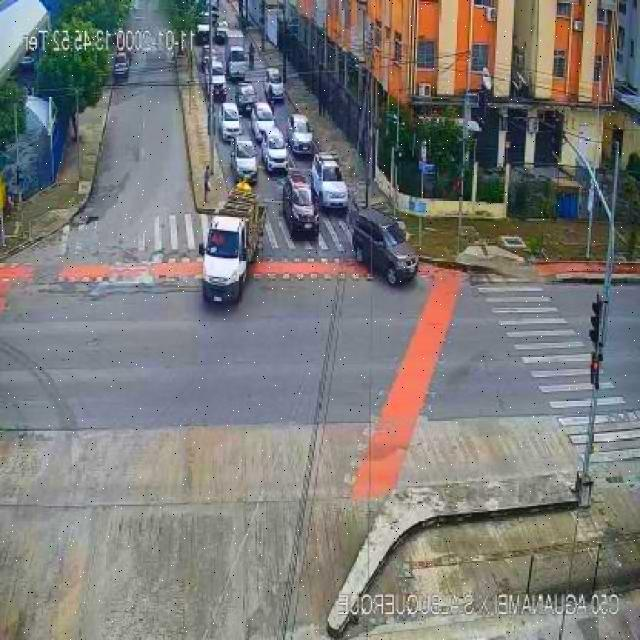Car: (350, 208, 418, 284), (281, 174, 320, 238), (310, 153, 349, 210), (286, 110, 317, 161), (229, 140, 258, 182), (250, 102, 278, 143), (261, 131, 288, 173), (234, 82, 258, 116), (220, 102, 241, 140), (264, 68, 284, 101), (201, 50, 223, 76), (113, 52, 131, 82)
Cycle: (246, 40, 263, 65)
Truck: (191, 183, 268, 311), (223, 25, 248, 83)
Van: (191, 22, 215, 68)
